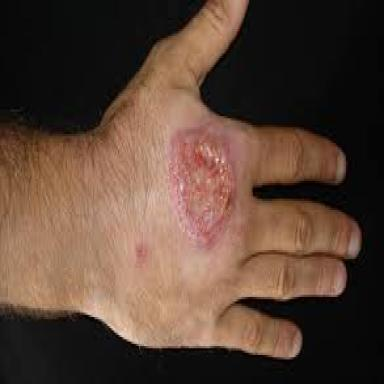Leishmanios: (170, 125, 234, 247)
